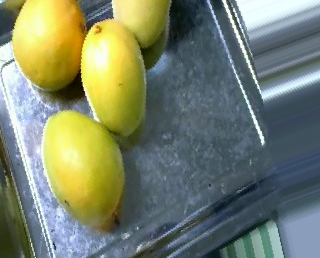Mango: (43, 109, 126, 230), (79, 18, 149, 133), (12, 1, 87, 91), (111, 0, 170, 47)
